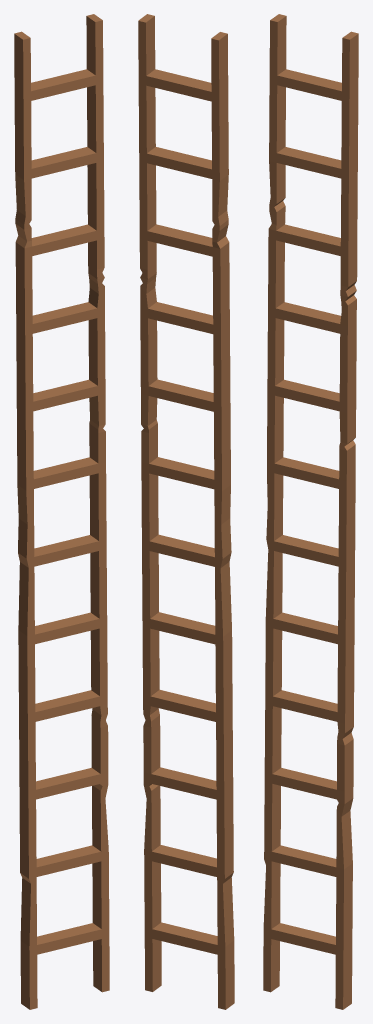
Rendered from Ladder Long.glb.
The picture shows the model from 3 angles, left to right: view 1: azimuth 30°, elevation 25°; view 2: azimuth 150°, elevation 25°; view 3: azimuth 330°, elevation 25°; orthographic projection.
Parts seen in each view (by area): view 1: Ladder_long; view 2: Ladder_long; view 3: Ladder_long.
Boxes of the visible parts, left/top/right/bottom form: Ladder_long: left=14, top=14, right=109, bottom=1009; Ladder_long: left=138, top=14, right=234, bottom=1009; Ladder_long: left=263, top=14, right=358, bottom=1009.
Size of the model in its own units: 0.6331 by 7.31 by 0.2159.
